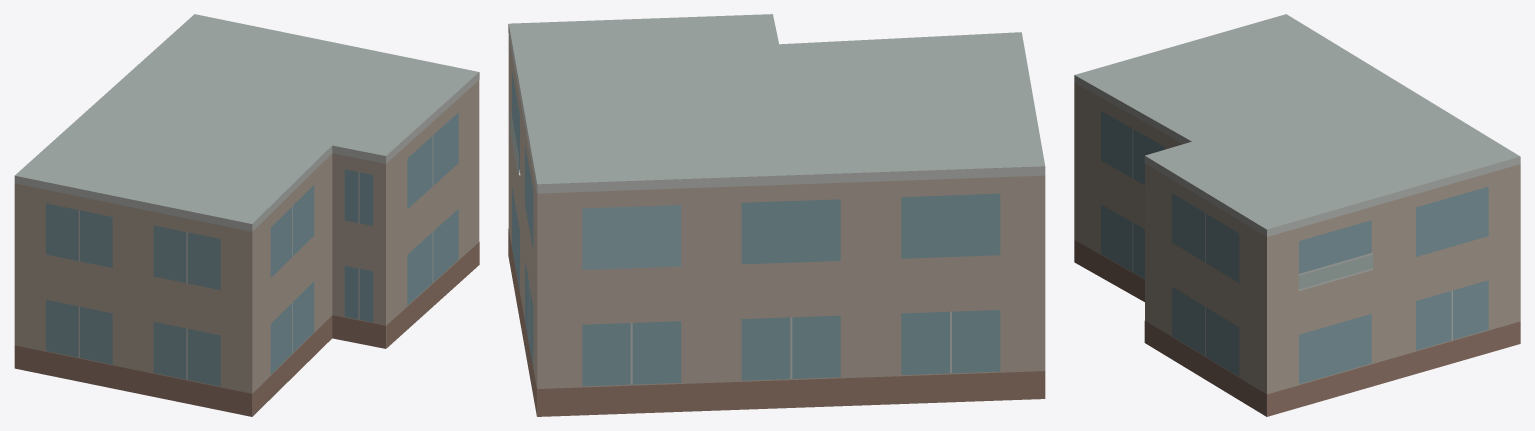
The model's file is survey-upis-32501380.glb.
3 renders of one model, left to right at view 1: azimuth 30°, elevation 25°; view 2: azimuth 150°, elevation 25°; view 3: azimuth 270°, elevation 25°, orthographic. The views are drawn at different scales.
Parts seen in each view (by area): view 1: survey-upis-32501380.tmp; view 2: survey-upis-32501380.tmp; view 3: survey-upis-32501380.tmp.
Part boxes in pixels (x1,y1,x2,y2): survey-upis-32501380.tmp: (14, 14, 479, 416); survey-upis-32501380.tmp: (508, 14, 1045, 416); survey-upis-32501380.tmp: (1074, 14, 1520, 416).
Bounding box in the file's own units: 15.07 × 6.1 × 13.18.
